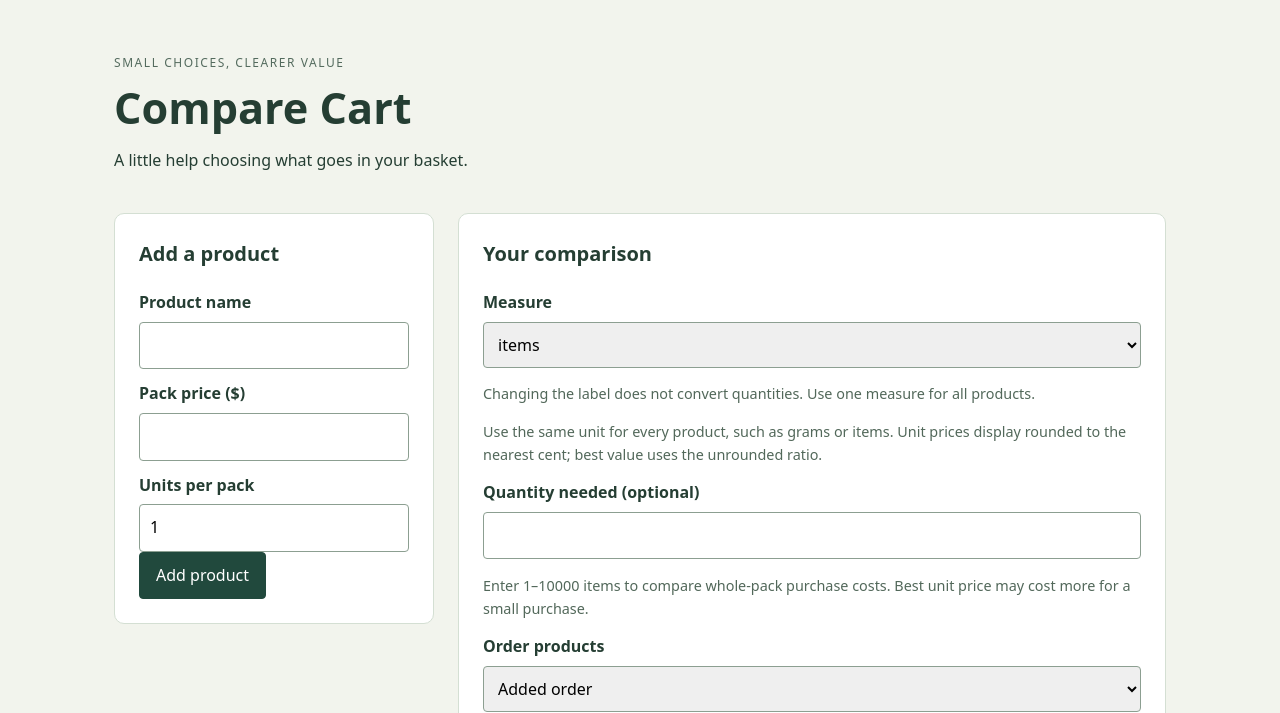
Scenario: rejects blank names and adds a product as text
This screenshot has width=1280, height=713.
Click the button "Add product" at (203, 576), box [139,552,266,600]
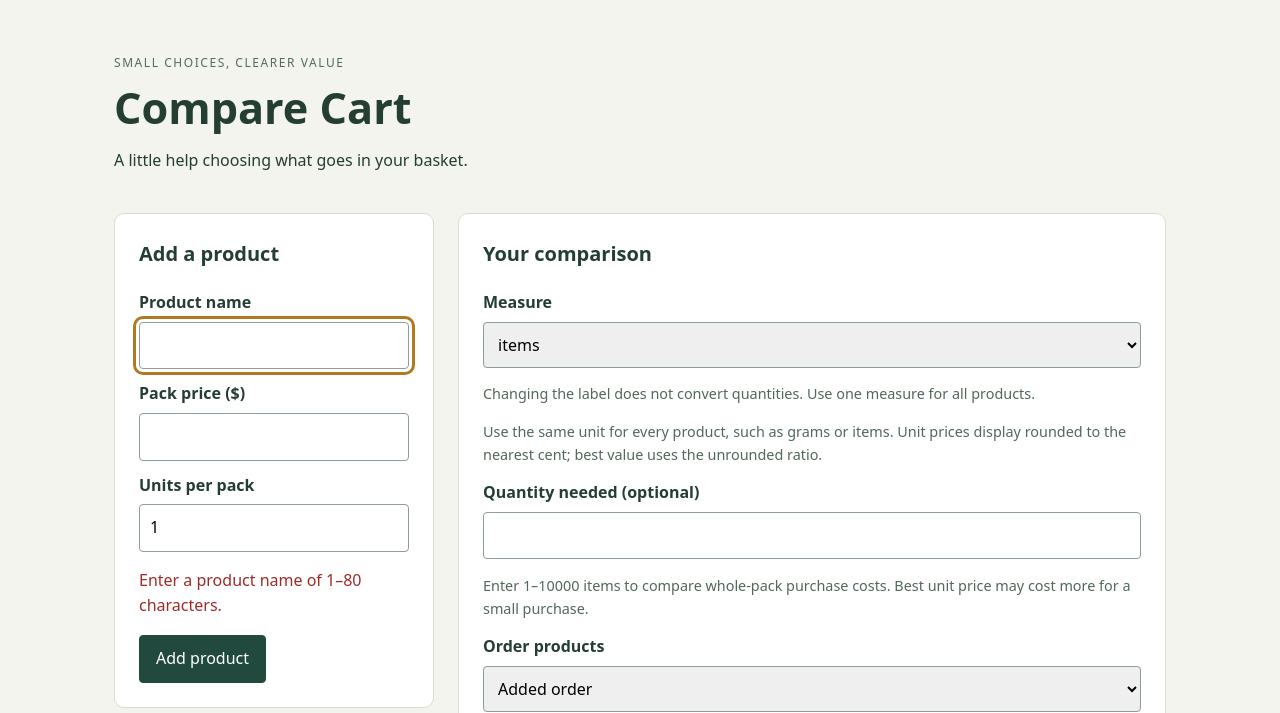
Now the message shows "product name", box [139,569,362,616]
Type "<b>Oats</b>" into the field labelled "Product name" at (274, 346), box [139,322,409,370]
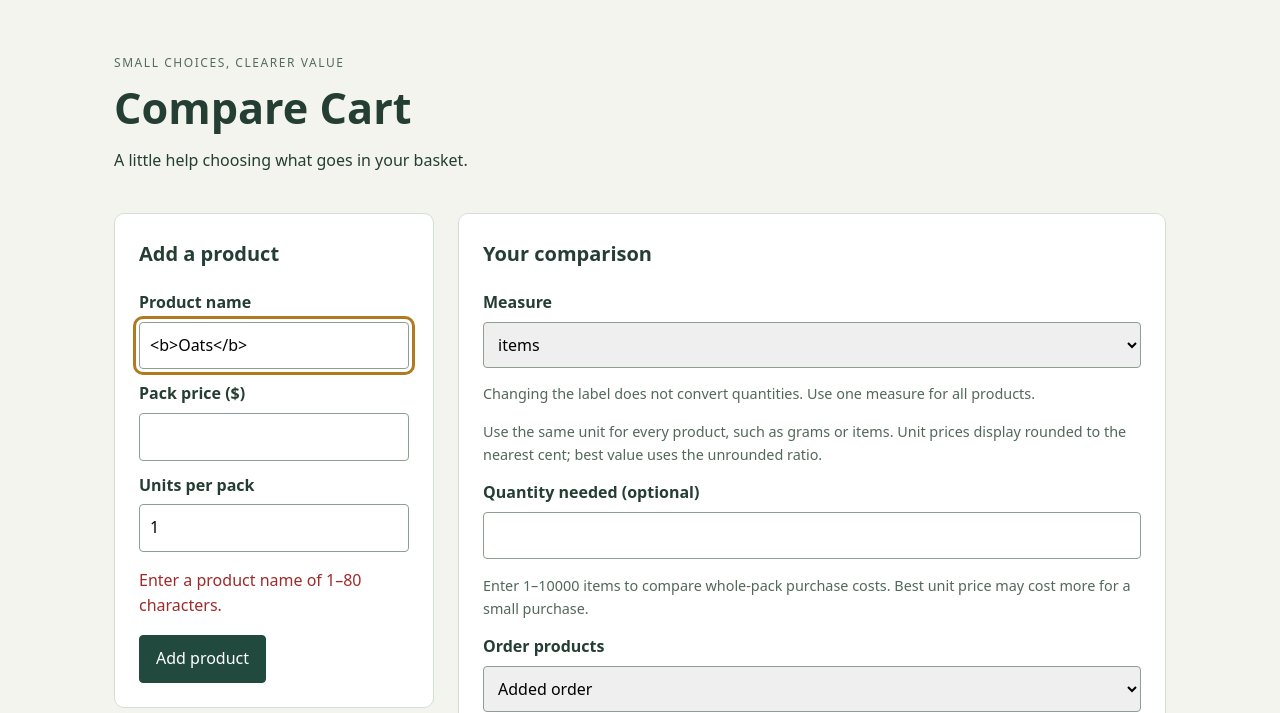
Type "4.25" into the field labelled "Pack price ($)" at (274, 437), box [139,413,409,461]
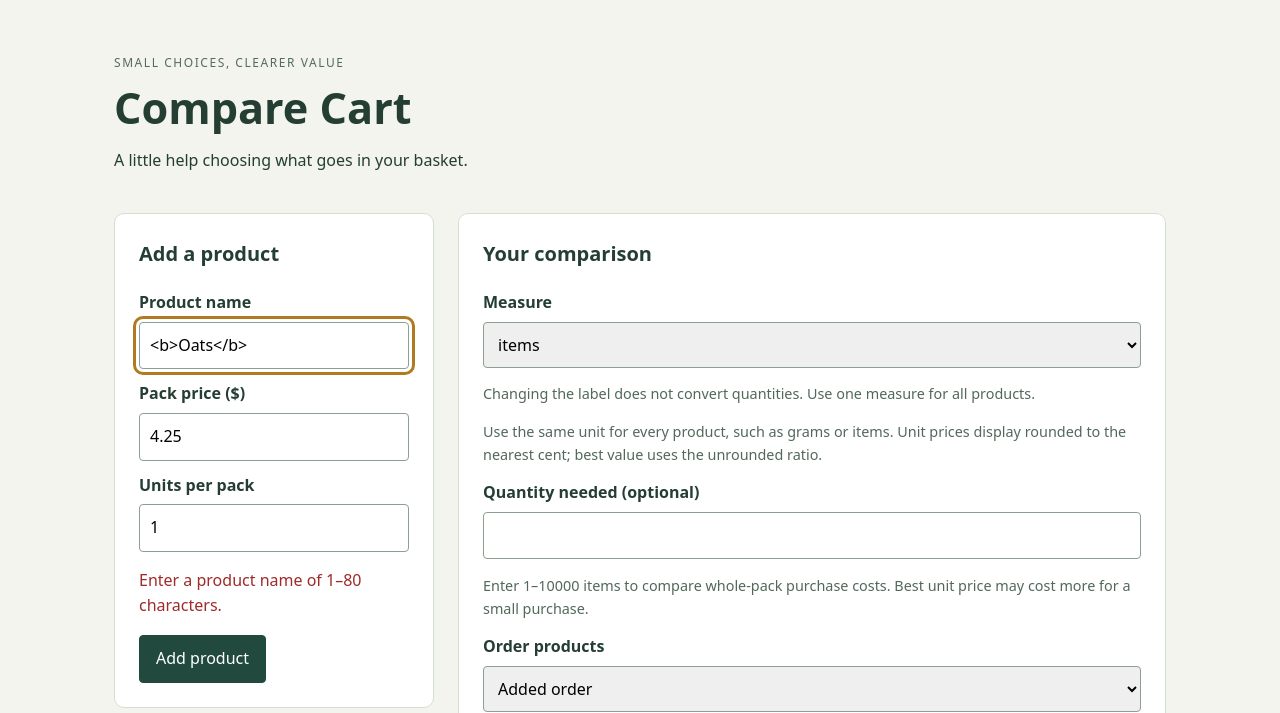
Click the button "Add product" at (203, 659), box [139,635,266,683]
(page scrolled)
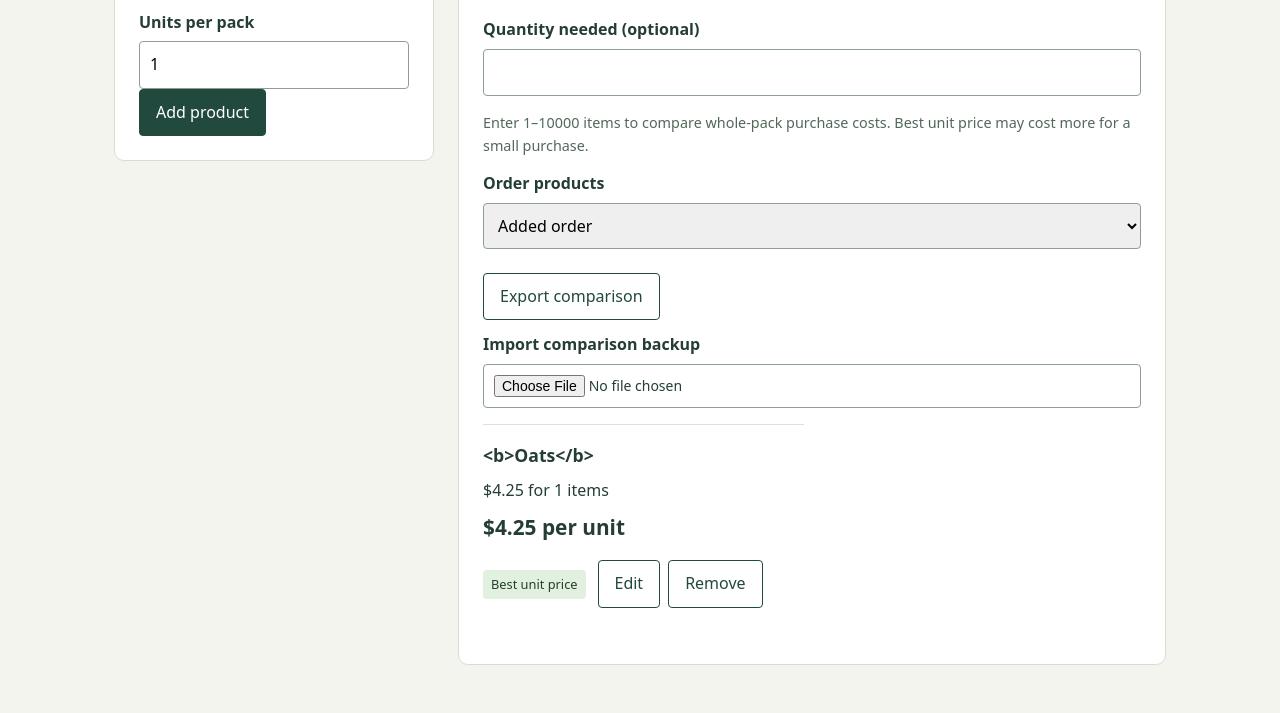
Now the heading "<b>Oats</b>" is shown, box [483,443,594,467]
